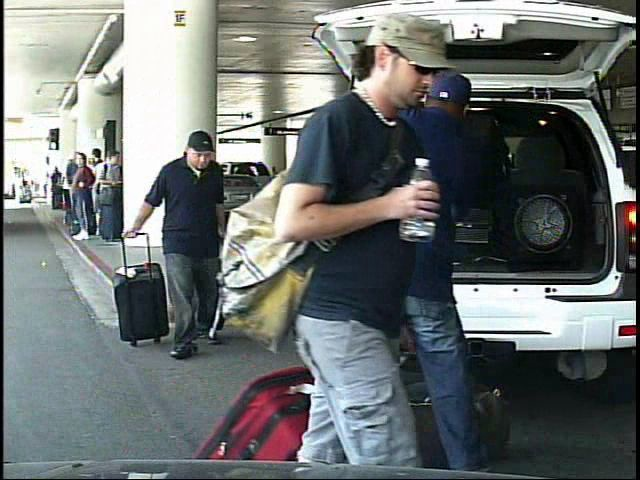person: (256, 16, 448, 471), (331, 60, 519, 477), (119, 125, 244, 361), (13, 174, 24, 205)
